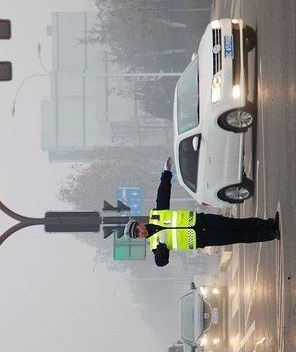person: (122, 158, 283, 269)
